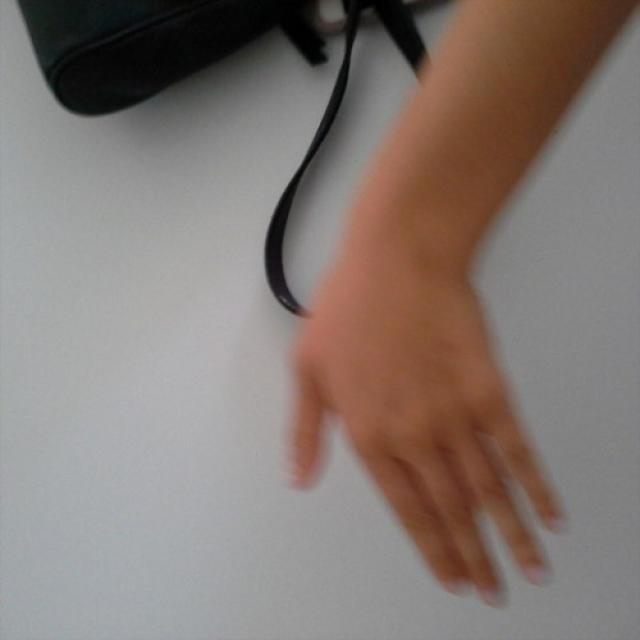paper: (289, 284, 569, 606)
